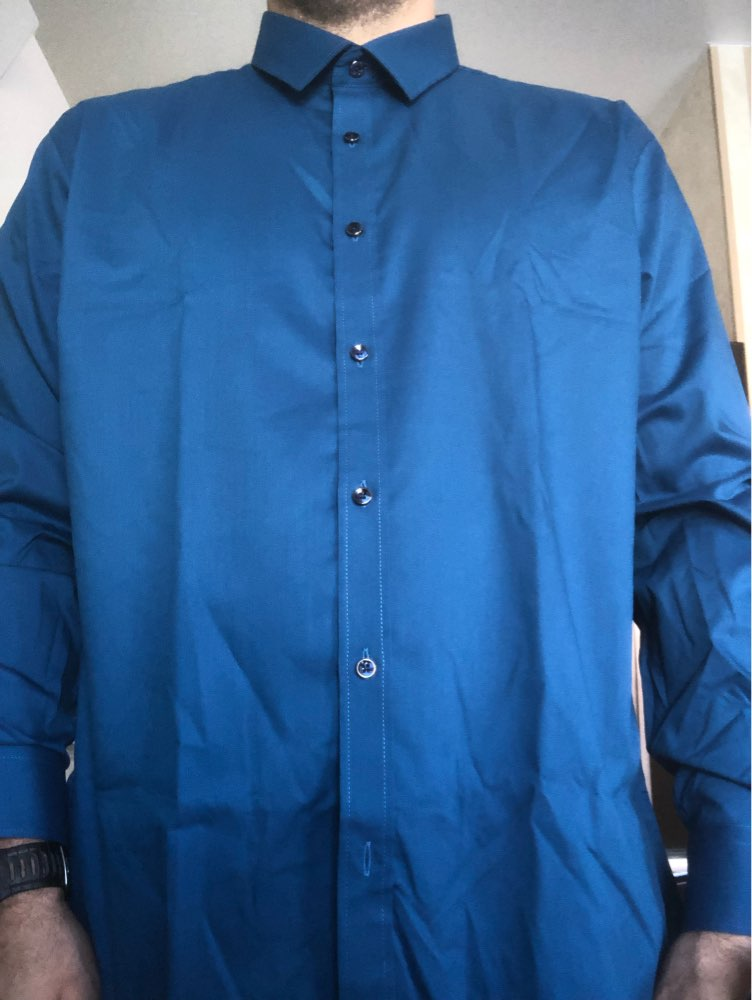shirts: (5, 11, 752, 979)
